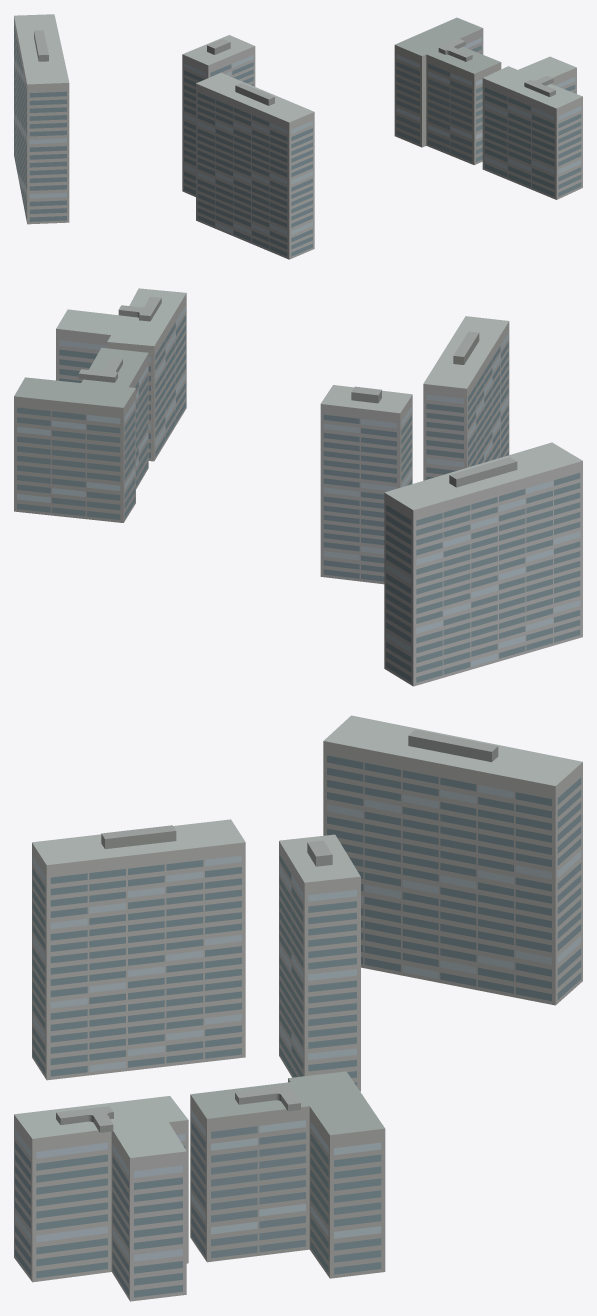
Rendered from apt-a13980107.glb.
3 views of the same model, one above another, from view 1: azimuth 30°, elevation 25°; view 2: azimuth 150°, elevation 25°; view 3: azimuth 270°, elevation 25° (orthographic). The views are drawn at different scales.
Visible parts, largest first — view 1: apt-a13980107; view 2: apt-a13980107; view 3: apt-a13980107.
Part boxes in pixels (x1=…): apt-a13980107: x1=14, y1=14, x2=582, y2=259; apt-a13980107: x1=14, y1=288, x2=582, y2=686; apt-a13980107: x1=14, y1=715, x2=582, y2=1301.
Bounding box in the file's own units: 178 × 52 × 117.
